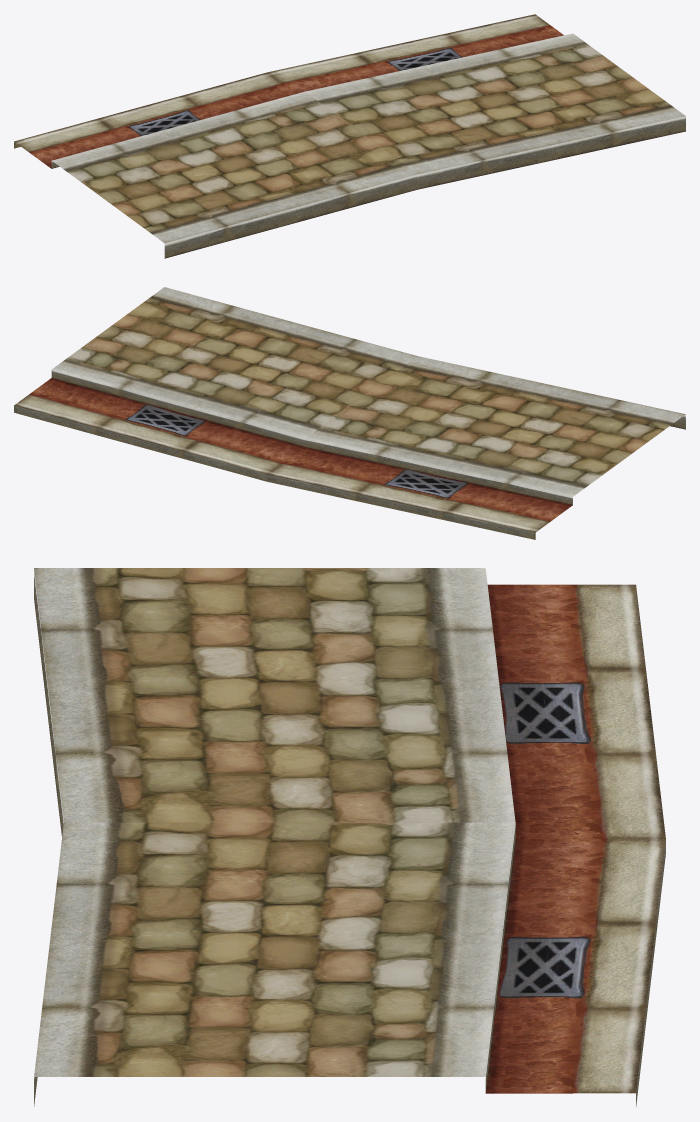
The model's file is obj_masabkside03.glb.
The picture shows the model from 3 angles, top to bottom: view 1: azimuth 30°, elevation 25°; view 2: azimuth 150°, elevation 25°; view 3: azimuth 270°, elevation 25°; orthographic projection. The views are drawn at different scales.
Parts seen in each view (by area): view 1: part_0; view 2: part_0; view 3: part_0.
Part boxes in pixels (x1,y1,x2,y2): part_0: [14, 14, 685, 258]; part_0: [14, 287, 685, 539]; part_0: [34, 568, 665, 1106].
Bounding box in the file's own units: 8 × 0.2275 × 4.2.
1 material, 1 textured.
